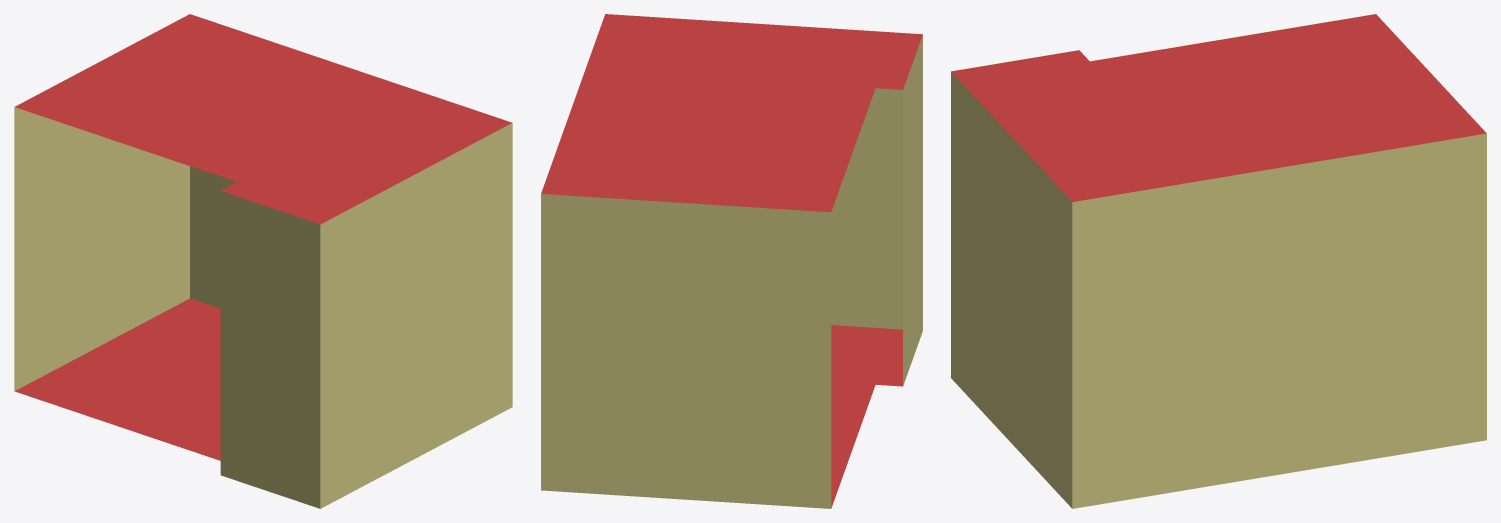
The picture shows the model from 3 angles, left to right: view 1: azimuth 30°, elevation 25°; view 2: azimuth 150°, elevation 25°; view 3: azimuth 270°, elevation 25°; orthographic projection. The views are drawn at different scales.
Bounding box in the file's own units: 9.38 × 11.29 × 7.13.
